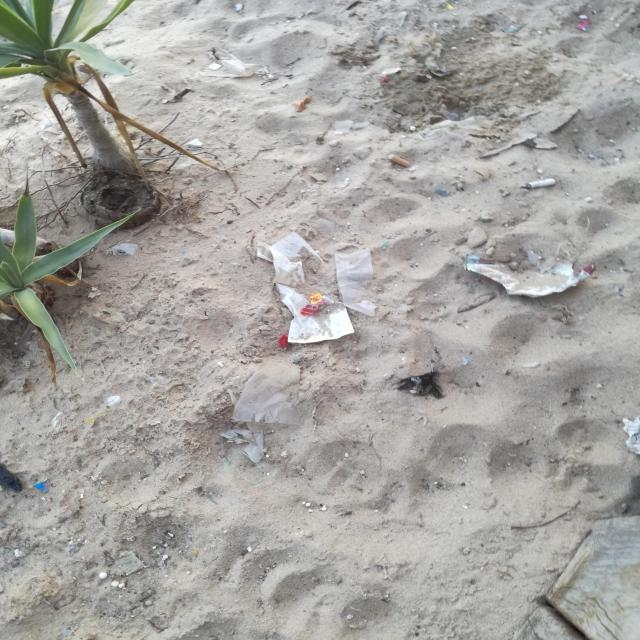litter: (255, 232, 355, 347), (465, 246, 596, 296), (227, 358, 305, 427), (385, 151, 419, 170)
